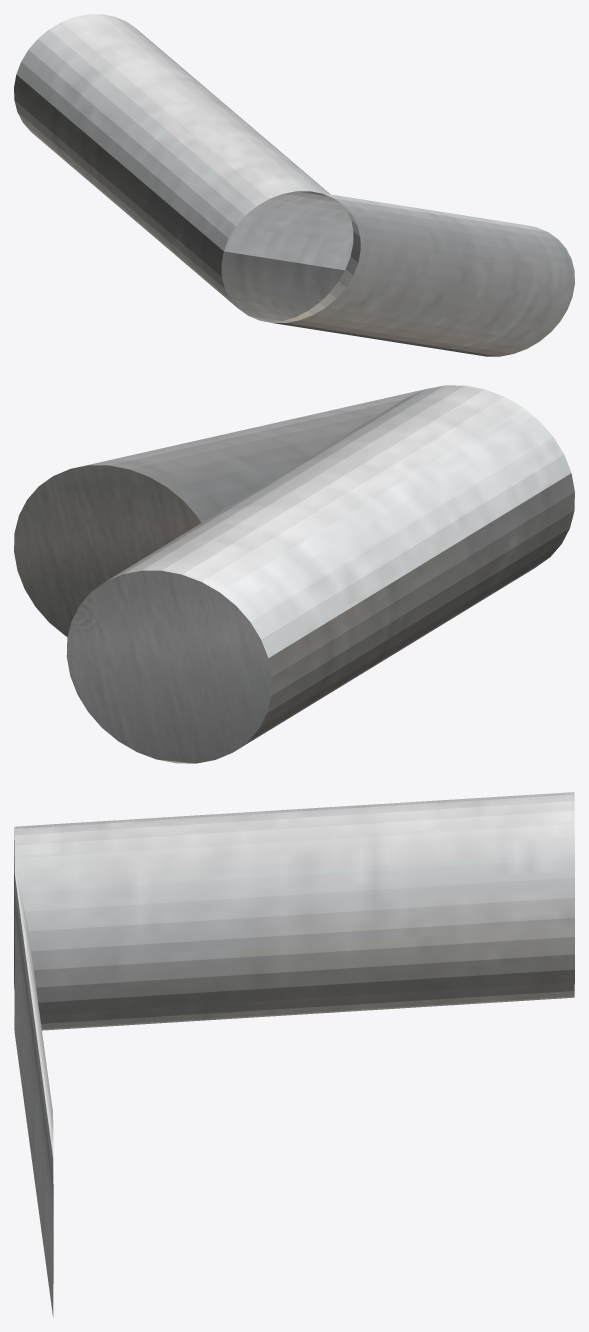
File: Manija.obj
The picture shows the model from 3 angles, top to bottom: view 1: azimuth 30°, elevation 25°; view 2: azimuth 150°, elevation 25°; view 3: azimuth 270°, elevation 25°; orthographic projection. The views are drawn at different scales.
Parts seen in each view (by area): view 1: Manija_Esfera.010; view 2: Manija_Esfera.010; view 3: Manija_Esfera.010.
Boxes of the visible parts, x1,y1,x2,y2 form: Manija_Esfera.010: [14, 14, 574, 356]; Manija_Esfera.010: [14, 385, 574, 763]; Manija_Esfera.010: [14, 792, 574, 1317].
Size of the model in its own units: 0.0827 by 0.0549 by 0.0807.
Materials: 1 (1 with a texture image).
